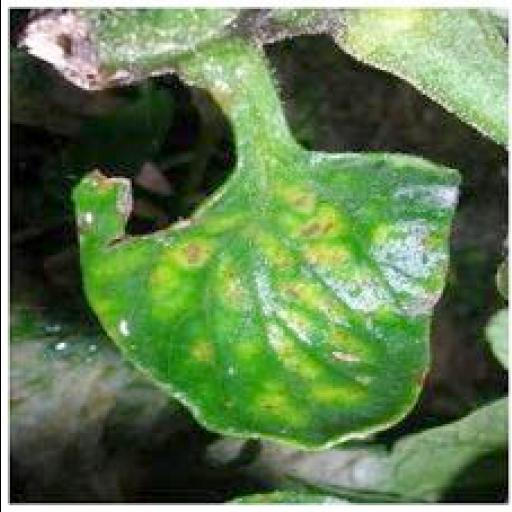Late Blight: (64, 38, 468, 458)
